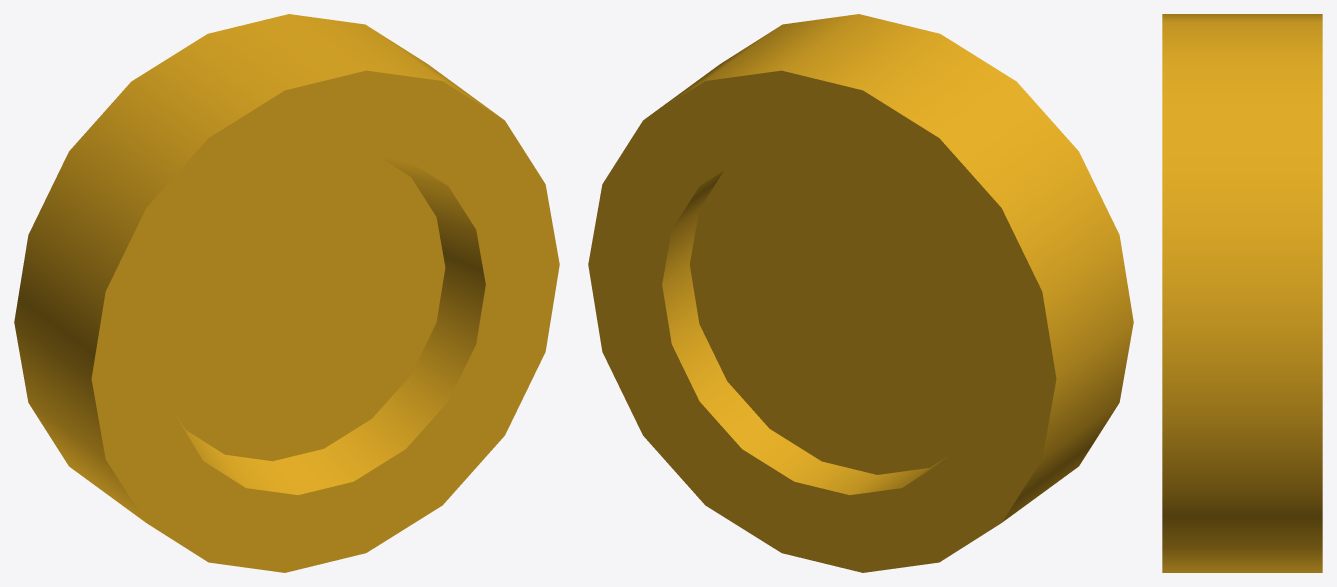
File: Coin.fbx
3 views of the same model, side by side, from view 1: azimuth 30°, elevation 25°; view 2: azimuth 150°, elevation 25°; view 3: azimuth 270°, elevation 25° (orthographic). The views are drawn at different scales.
Visible parts, largest first — view 1: Coin; view 2: Coin; view 3: Coin.
Part boxes in pixels (x1=…): Coin: x1=14, y1=14, x2=559, y2=572; Coin: x1=588, y1=14, x2=1133, y2=572; Coin: x1=1162, y1=14, x2=1322, y2=572.
Size of the model in its own units: 40.14 by 39.53 by 11.48.
